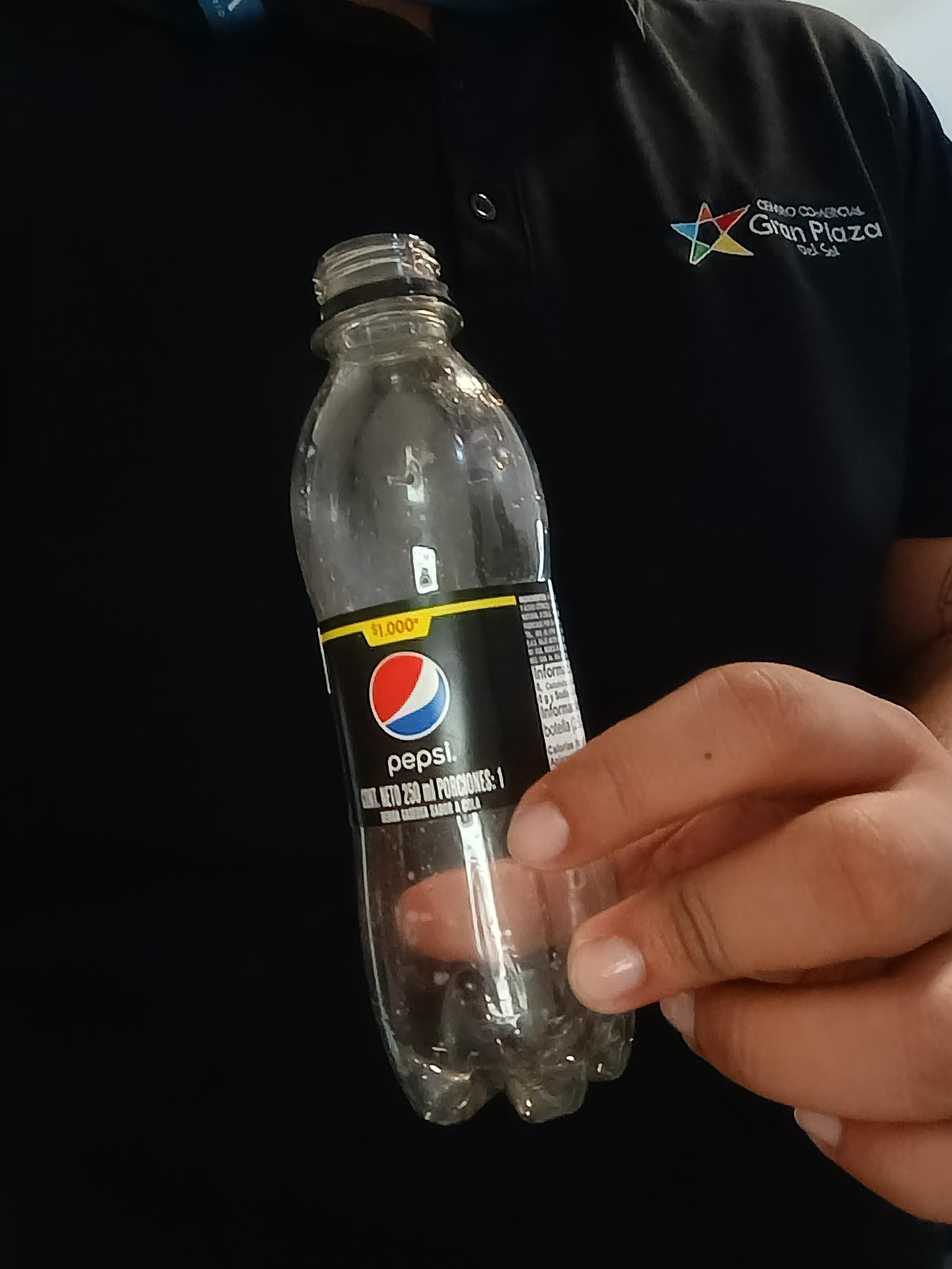Plastico: (289, 235, 628, 1122)
